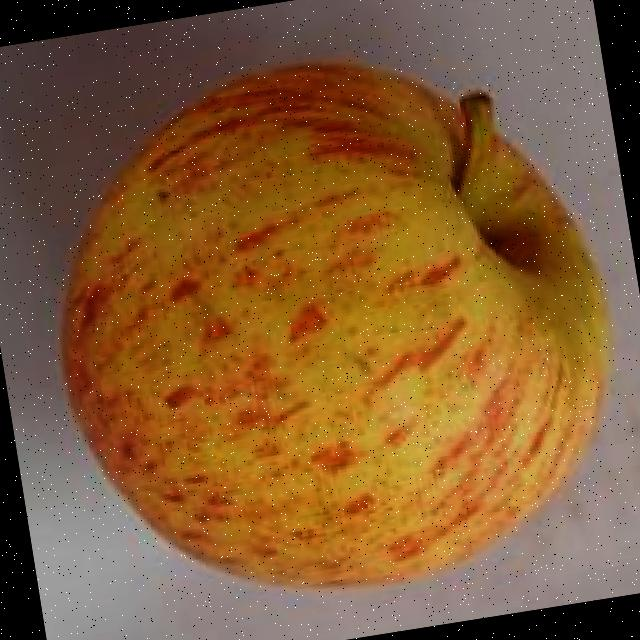apple: (21, 17, 640, 633)
